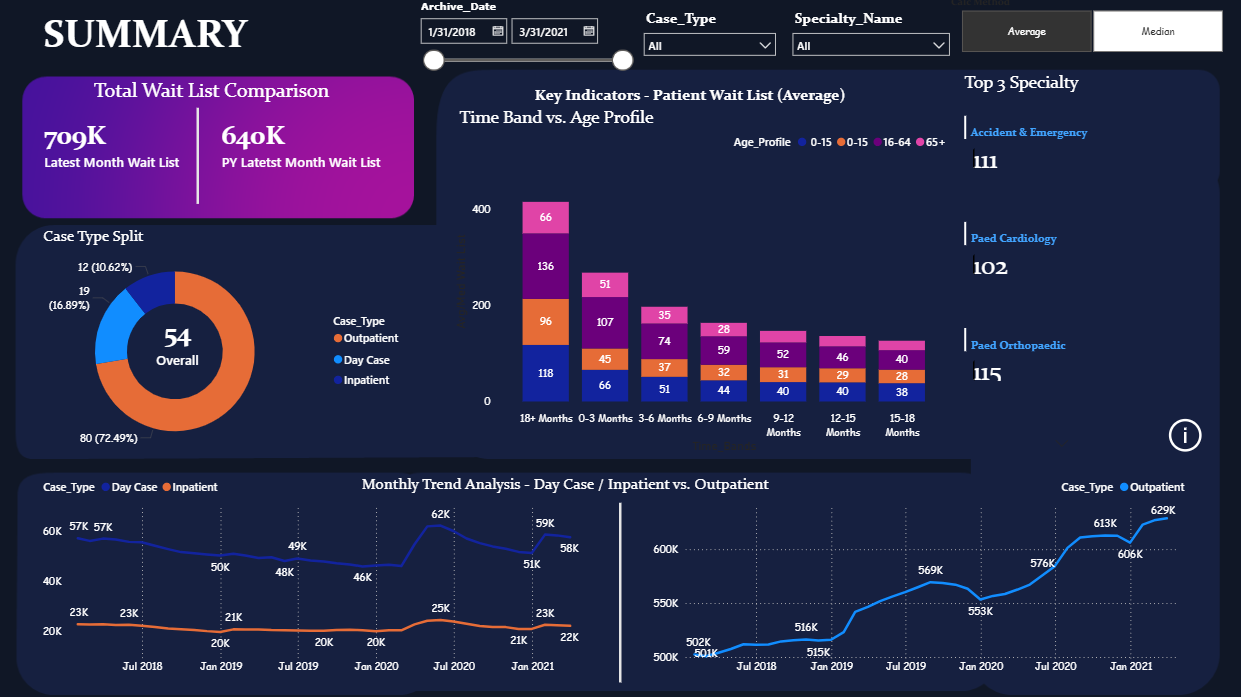

The dashboard page shown, as its layout file describes it:
{"tool":"powerbi","page":{"name":"Summary","canvas":[1500,900],"ordinal":0},"visuals":[{"type":"cardVisual","fields":{"Data":["All_Data.Current Month Wait List"]},"box":[25.6,128.2,223.2,143.3],"z":0},{"type":"cardVisual","fields":{"Data":["All_Data.PY Latetst Month Wait List"]},"box":[240,128,256,144],"z":1000},{"type":"slicer","fields":{"Values":["Calculation Method.Calc Method"]},"box":[1135.6,15.1,364.9,79.9],"z":2000},{"type":"donutChart","fields":{"Category":["All_Data.Case_Type"],"Y":["All_Data.Avg/Med Wait List"]},"box":[16.6,313.7,479.6,271.4],"z":3000},{"type":"columnChart","fields":{"Y":["All_Data.Avg/Med Wait List"],"Category":["All_Data.Time_Bands"],"Series":["All_Data.Age_Profile"]},"box":[544,176,608,400],"z":4000},{"type":"cardVisual","fields":{"Rows":["All_Data.Specialty_Name"],"Data":["All_Data.Avg/Med Wait List"]},"box":[1159.7,140.2,245.8,435.8],"z":5000},{"type":"cardVisual","fields":{"Data":["All_Data.NoData Left"]},"box":[202.1,672.6,304.6,96.5],"z":6000},{"type":"lineChart","fields":{"Category":["All_Data.Archive_Date"],"Y":["Sum(All_Data.Total)"],"Series":["All_Data.Case_Type"]},"box":[48,592,672,256],"z":7000},{"type":"cardVisual","fields":{"Data":["All_Data.NoData right"]},"box":[978.7,683.1,304.6,96.5],"z":8000},{"type":"lineChart","fields":{"Category":["All_Data.Archive_Date"],"Y":["Sum(All_Data.Total)"],"Series":["All_Data.Case_Type"]},"box":[784.2,592.7,656,256.4],"z":9000},{"type":"slicer","fields":{"Values":["All_Data.Archive_Date"]},"box":[496.1,21.1,277.5,93.5],"z":10000},{"type":"slicer","fields":{"Values":["All_Data.Case_Type"]},"box":[767.6,31.7,179.5,63.3],"z":11000},{"type":"slicer","fields":{"Values":["All_Data.Specialty_Name"]},"box":[947.1,31.7,209.6,63.3],"z":12000},{"type":"textbox","box":[48,32,336,96],"z":13000},{"type":"cardVisual","fields":{"Data":["All_Data.Avg/Med Wait List"]},"box":[159.9,390.6,111.6,95],"z":14000},{"type":"shape","box":[125.2,155.3,229.2,116.1],"z":15000},{"type":"textbox","box":[48.3,294.1,297.1,42.2],"z":16000},{"type":"textbox","box":[79.9,114.6,352.9,43.7],"z":17000},{"type":"textbox","box":[550,149.6,297.5,41.8],"z":18000},{"type":"textbox","box":[432.8,592.7,633.4,39.2],"z":19000},{"type":"textbox","box":[1159.7,107.1,297.1,42.2],"z":20000},{"type":"cardVisual","fields":{"Data":["All_Data.Dynamic Title"]},"box":[616.8,107.1,434.3,64.8],"z":21000},{"type":"actionButton","box":[1405.5,524.8,67.9,51.3],"z":22000},{"type":"shape","box":[634.9,631.9,229.2,217.2],"z":23000}]}

Visuals, with their boxes on the page's 1500x900 design canvas (x1, y1, x2, y2). These are canvas units, not pixel positions in the 1241x697 screenshot, which may show the page scaled, cropped or inside an application window:
cardVisual - All_Data.Current Month Wait List: rect(26, 128, 249, 272)
cardVisual - All_Data.PY Latetst Month Wait List: rect(240, 128, 496, 272)
slicer - Calculation Method.Calc Method: rect(1136, 15, 1500, 95)
donutChart - All_Data.Case_Type x All_Data.Avg/Med Wait List: rect(17, 314, 496, 585)
columnChart - All_Data.Avg/Med Wait List x All_Data.Time_Bands: rect(544, 176, 1152, 576)
cardVisual - All_Data.Specialty_Name x All_Data.Avg/Med Wait List: rect(1160, 140, 1406, 576)
cardVisual - All_Data.NoData Left: rect(202, 673, 507, 769)
lineChart - All_Data.Archive_Date x Sum(All_Data.Total): rect(48, 592, 720, 848)
cardVisual - All_Data.NoData right: rect(979, 683, 1283, 780)
lineChart - All_Data.Archive_Date x Sum(All_Data.Total): rect(784, 593, 1440, 849)
slicer - All_Data.Archive_Date: rect(496, 21, 774, 115)
slicer - All_Data.Case_Type: rect(768, 32, 947, 95)
slicer - All_Data.Specialty_Name: rect(947, 32, 1157, 95)
textbox: rect(48, 32, 384, 128)
cardVisual - All_Data.Avg/Med Wait List: rect(160, 391, 272, 486)
shape: rect(125, 155, 354, 271)
textbox: rect(48, 294, 345, 336)
textbox: rect(80, 115, 433, 158)
textbox: rect(550, 150, 848, 191)
textbox: rect(433, 593, 1066, 632)
textbox: rect(1160, 107, 1457, 149)
cardVisual - All_Data.Dynamic Title: rect(617, 107, 1051, 172)
actionButton: rect(1406, 525, 1473, 576)
shape: rect(635, 632, 864, 849)
